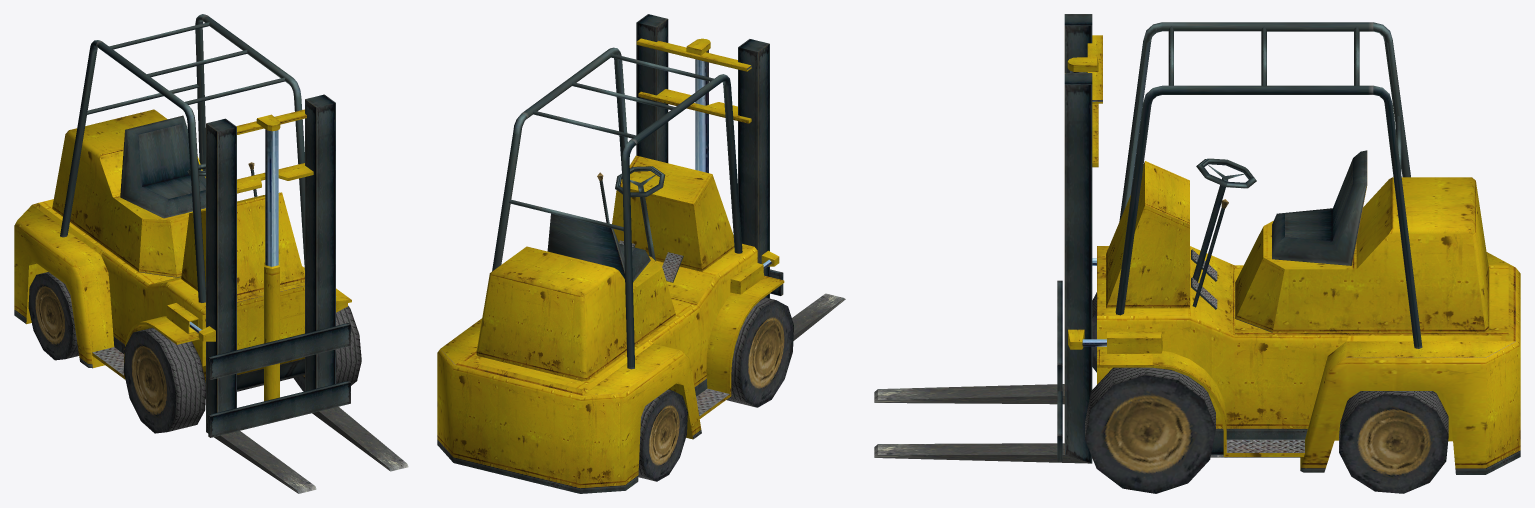
Rendered from forklift.fbx.
The picture shows the model from 3 angles, left to right: view 1: azimuth 30°, elevation 25°; view 2: azimuth 150°, elevation 25°; view 3: azimuth 270°, elevation 25°; orthographic projection. The views are drawn at different scales.
Parts seen in each view (by area): view 1: mesh_0; view 2: mesh_0; view 3: mesh_0.
Boxes of the visible parts, bbox=[...] form: mesh_0: bbox=[14, 14, 408, 493]; mesh_0: bbox=[437, 14, 845, 493]; mesh_0: bbox=[874, 14, 1520, 493].
Size of the model in its own units: 142 by 231 by 348.
1 material, 1 textured.
